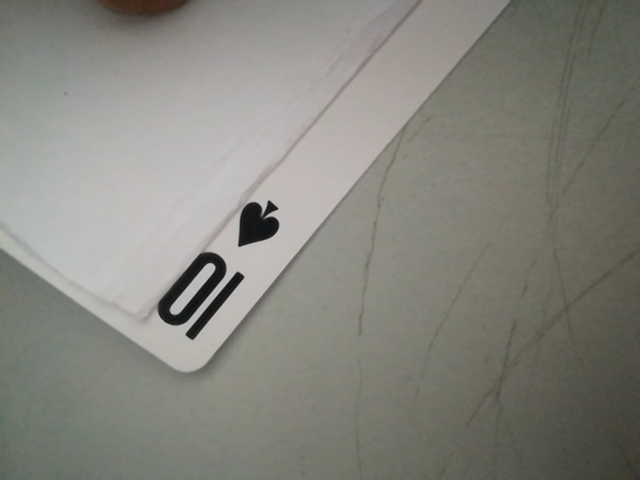ht 10: (150, 192, 296, 361)
